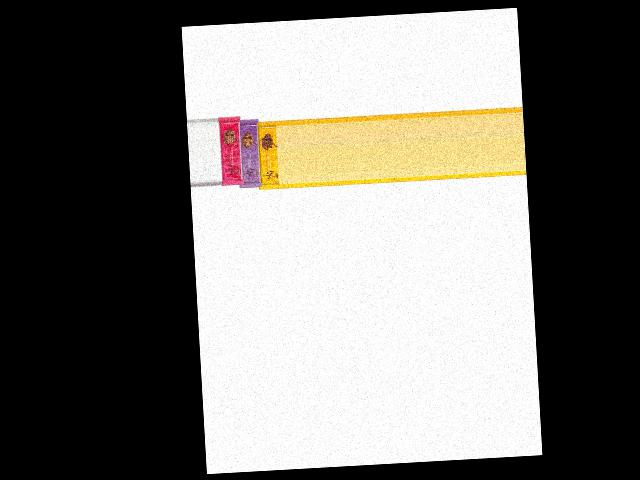chocolate: (217, 111, 243, 189)
